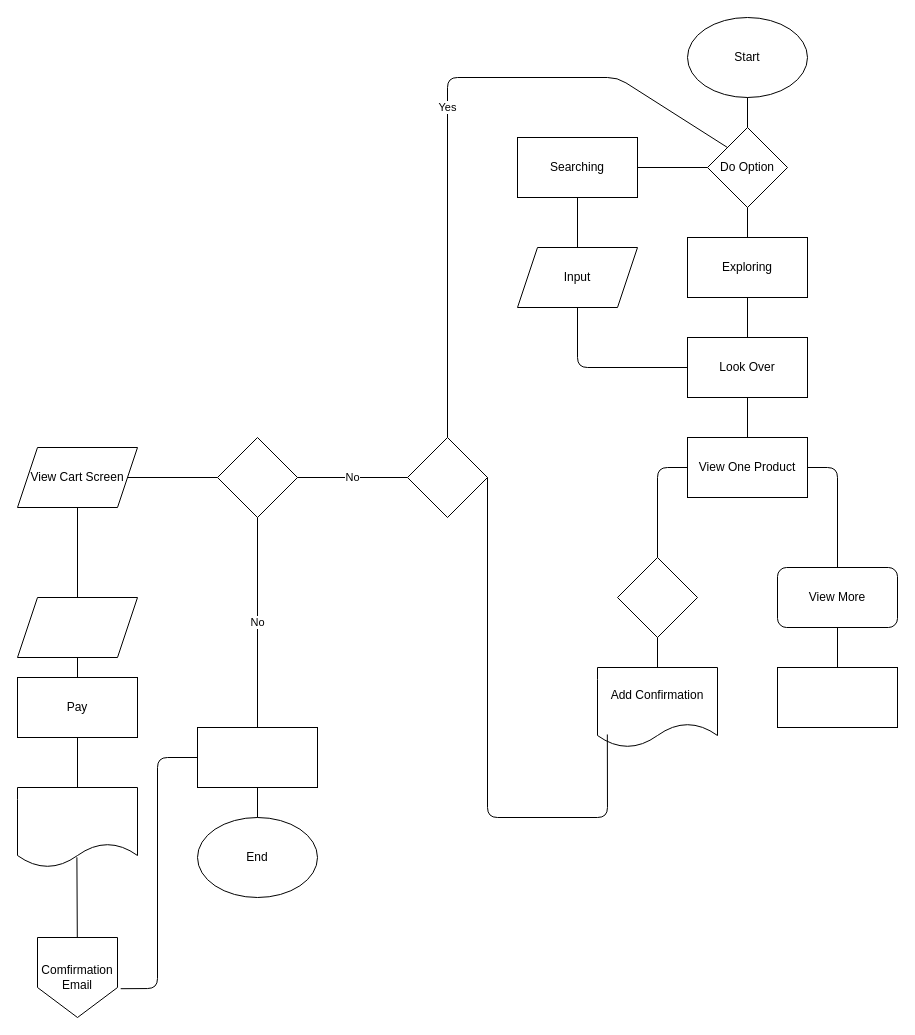
Image size: 915x1035. Some labels were removed from this diagram. Each missing label, with the centre of its shape:
Add: (x=657, y=597)
Check Out: (x=257, y=477)
Continue Shopping: (x=447, y=477)
Leave The Website: (x=257, y=757)
Open Product's Webpage: (x=837, y=697)
Order Confirmation: (x=77, y=827)
View Payment Screen: (x=77, y=627)
